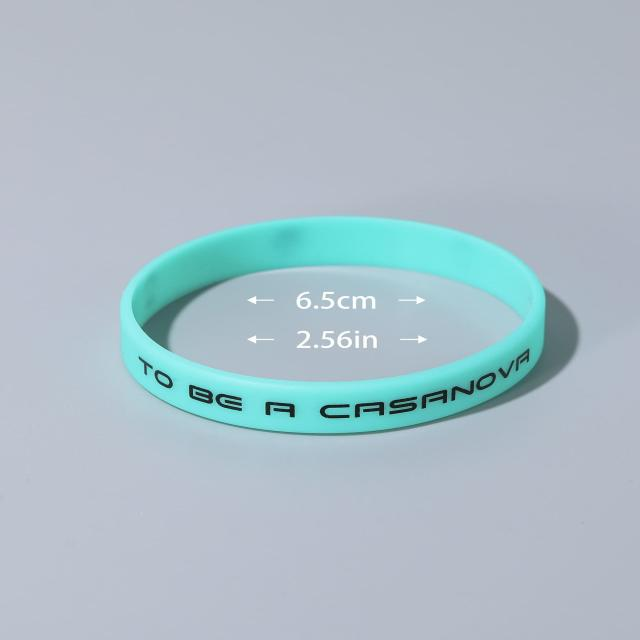bracelet: (45, 126, 592, 487)
